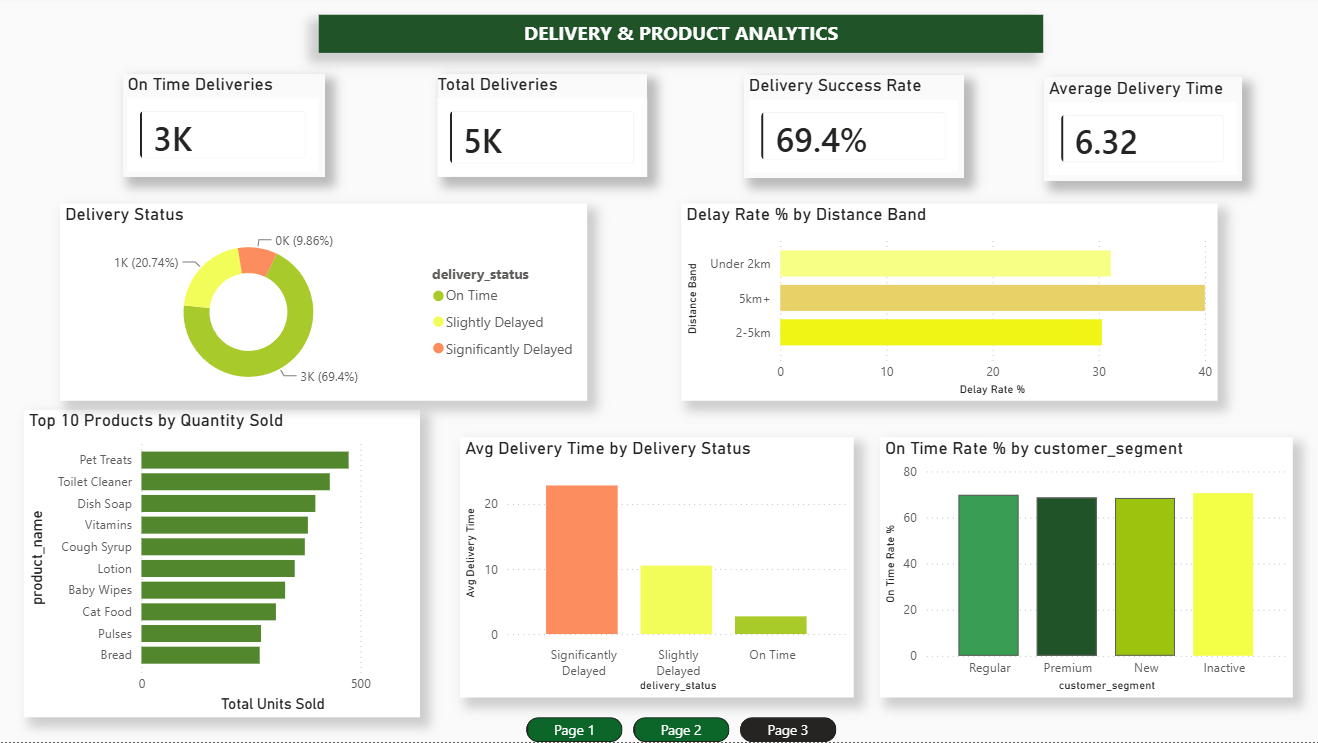

What the dashboard file says about the page in this screenshot:
{"tool":"powerbi","page":{"name":"Page 3","canvas":[1280,720],"ordinal":2},"visuals":[{"type":"textbox","box":[312.5,17.7,699.6,36.7],"z":0},{"type":"cardVisual","title":"Total Deliveries","fields":{"Data":["blinkit_delivery_performance.Total Deliveries"]},"box":[427.1,74.8,202.7,100.1],"z":1000},{"type":"cardVisual","title":"On Time Deliveries","fields":{"Data":["blinkit_delivery_performance.On-Time Deliveries"]},"box":[122.7,74.6,194.8,99.9],"z":2000},{"type":"cardVisual","title":"Delivery Success Rate","fields":{"Data":["blinkit_delivery_performance.On Time Delivery %"]},"box":[723,75.9,212.5,99.9],"z":3000},{"type":"cardVisual","title":"Average Delivery Time","fields":{"Data":["blinkit_delivery_performance.Average Delivery Time"]},"box":[1012.1,78.4,191,99.9],"z":4000},{"type":"clusteredBarChart","title":"Top 10 Products by Quantity Sold","fields":{"Category":["blinkit_products.product_name"],"Y":["blinkit_products.Total Units Sold"]},"box":[44.6,406.6,382.4,296.8],"z":5000},{"type":"treemap","fields":{"Values":["blinkit_products.Product Revenue"],"Group":["blinkit_products.category"]},"box":[594.8,193,594.8,213.5],"z":6000},{"type":"donutChart","title":"Revenue by Payment Method","fields":{"Category":["blinkit_orders.payment_method"],"Y":["blinkit_orders.Total Revenue"]},"box":[452.4,431.9,404.2,250.9],"z":7000},{"type":"clusteredColumnChart","title":"Avg Delivery Time by Delivery Status","fields":{"Category":["blinkit_delivery_performance.delivery_status"],"Y":["blinkit_delivery_performance.Avg Delivery Time"]},"box":[880.7,431.9,380,250.9],"z":8000},{"type":"donutChart","title":"Delivery Status","fields":{"Category":["blinkit_delivery_performance.delivery_status"],"Y":["blinkit_orders.Total Orders"]},"box":[44.6,194.2,509.1,199.1],"z":9000},{"type":"pageNavigator","box":[512.7,696.1,299.2,24.1],"z":10000}]}

Visuals, with their boxes in screenshot pixels (x1, y1, x2, y2), scaled from the page's 1280x720 canvas onto the 1318x743 screenshot:
textbox: (x1=322, y1=18, x2=1042, y2=56)
"Total Deliveries" cardVisual: (x1=440, y1=77, x2=648, y2=180)
"On Time Deliveries" cardVisual: (x1=126, y1=77, x2=327, y2=180)
"Delivery Success Rate" cardVisual: (x1=744, y1=78, x2=963, y2=181)
"Average Delivery Time" cardVisual: (x1=1042, y1=81, x2=1239, y2=184)
"Top 10 Products by Quantity Sold" clusteredBarChart: (x1=46, y1=420, x2=440, y2=726)
treemap - blinkit_products.Product Revenue x blinkit_products.category: (x1=612, y1=199, x2=1225, y2=419)
"Revenue by Payment Method" donutChart: (x1=466, y1=446, x2=882, y2=705)
"Avg Delivery Time by Delivery Status" clusteredColumnChart: (x1=907, y1=446, x2=1298, y2=705)
"Delivery Status" donutChart: (x1=46, y1=200, x2=570, y2=406)
pageNavigator: (x1=528, y1=718, x2=836, y2=742)
